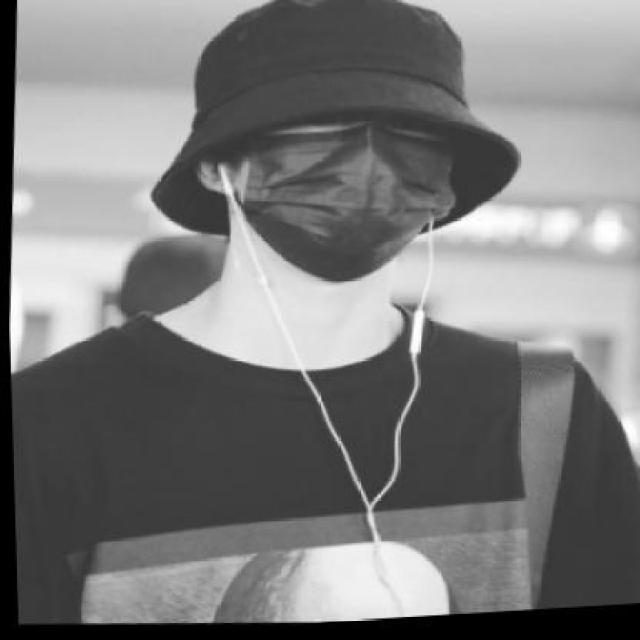hat: (146, 0, 516, 238)
